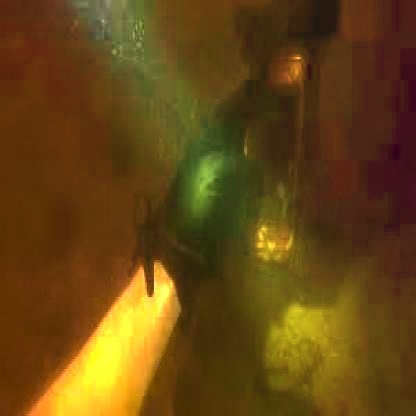cellphone: (241, 54, 308, 270)
